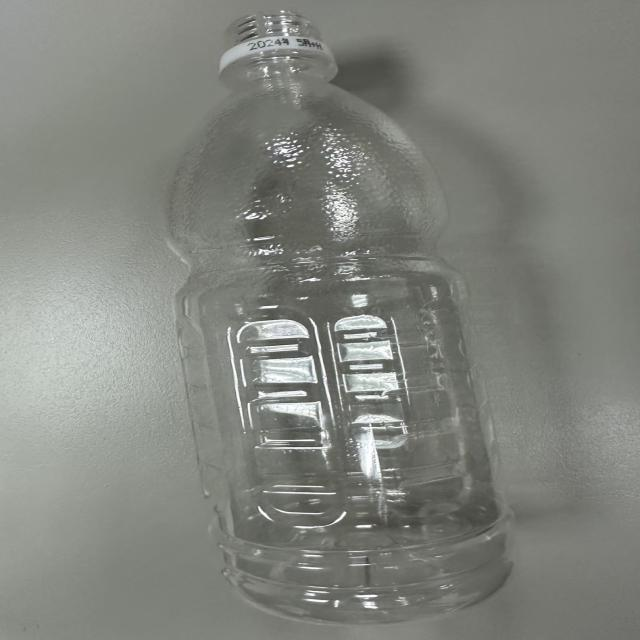Transparent Plastic Bottle: (159, 15, 511, 622)
